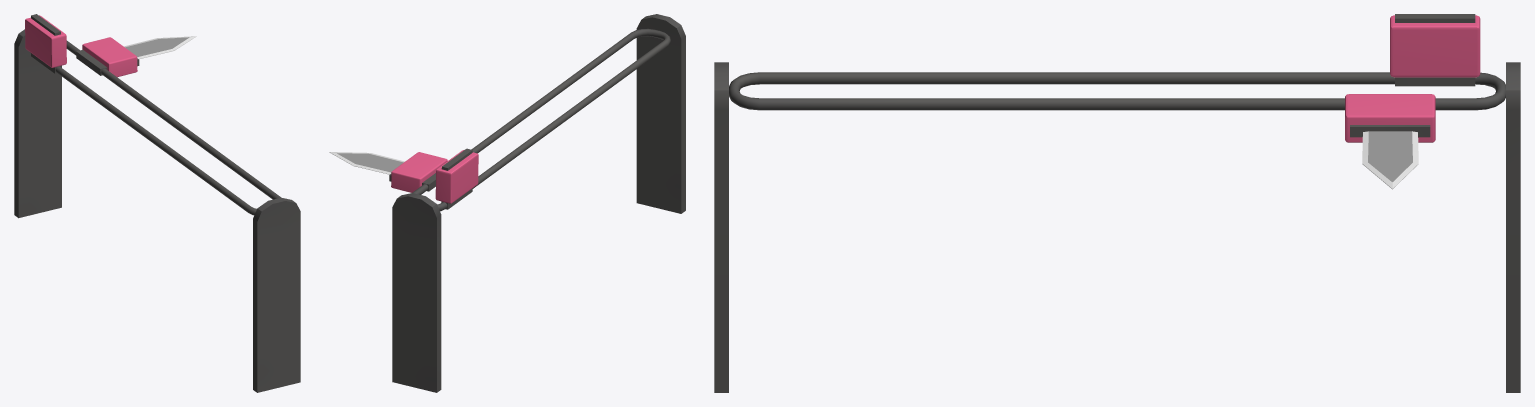
Rendered from trap_012.fbx.
3 views of the same model, side by side, from view 1: azimuth 30°, elevation 25°; view 2: azimuth 150°, elevation 25°; view 3: azimuth 270°, elevation 25° (orthographic). The views are drawn at different scales.
Visible parts, largest first — view 1: trap_012_base, trap_012, trap_012_knife; view 2: trap_012_base, trap_012, trap_012_knife; view 3: trap_012_base, trap_012, trap_012_knife.
Part boxes in pixels (x1,y1,x2,y2): trap_012_base: (14, 29, 300, 392); trap_012: (25, 14, 139, 77); trap_012_knife: (124, 36, 196, 59); trap_012_base: (392, 14, 685, 392); trap_012: (389, 148, 478, 209); trap_012_knife: (329, 152, 404, 174); trap_012_base: (714, 62, 1520, 392); trap_012: (1345, 14, 1480, 142); trap_012_knife: (1362, 131, 1418, 189).
Size of the model in its own units: 1597 by 2186 by 4613.
